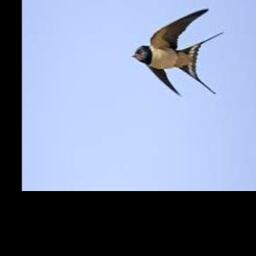Swallow: (132, 7, 225, 96)
